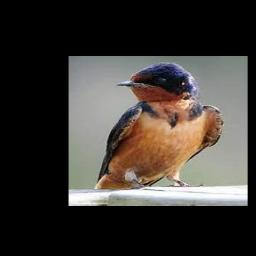Swallow: (94, 61, 225, 190)
